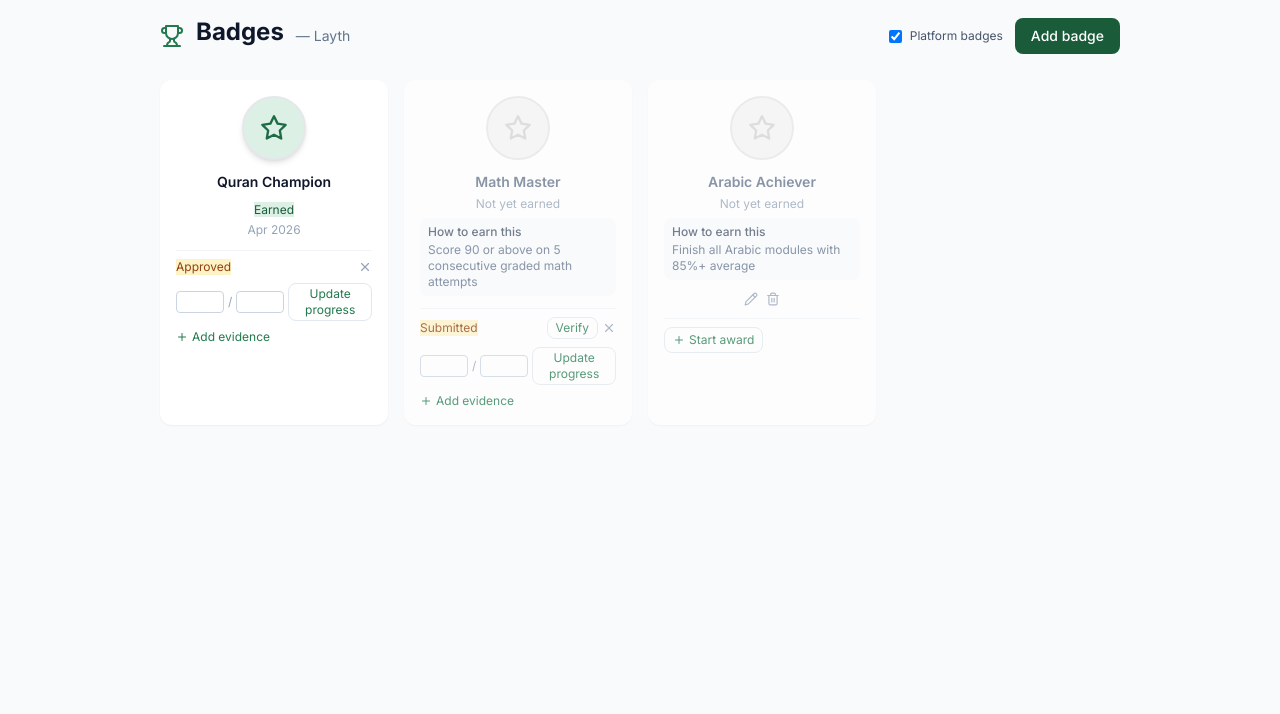
BadgesPage › authors a custom badge via the create form
Step 1. Click the button "Add badge" → [1067, 36], box [1015,18,1120,54]
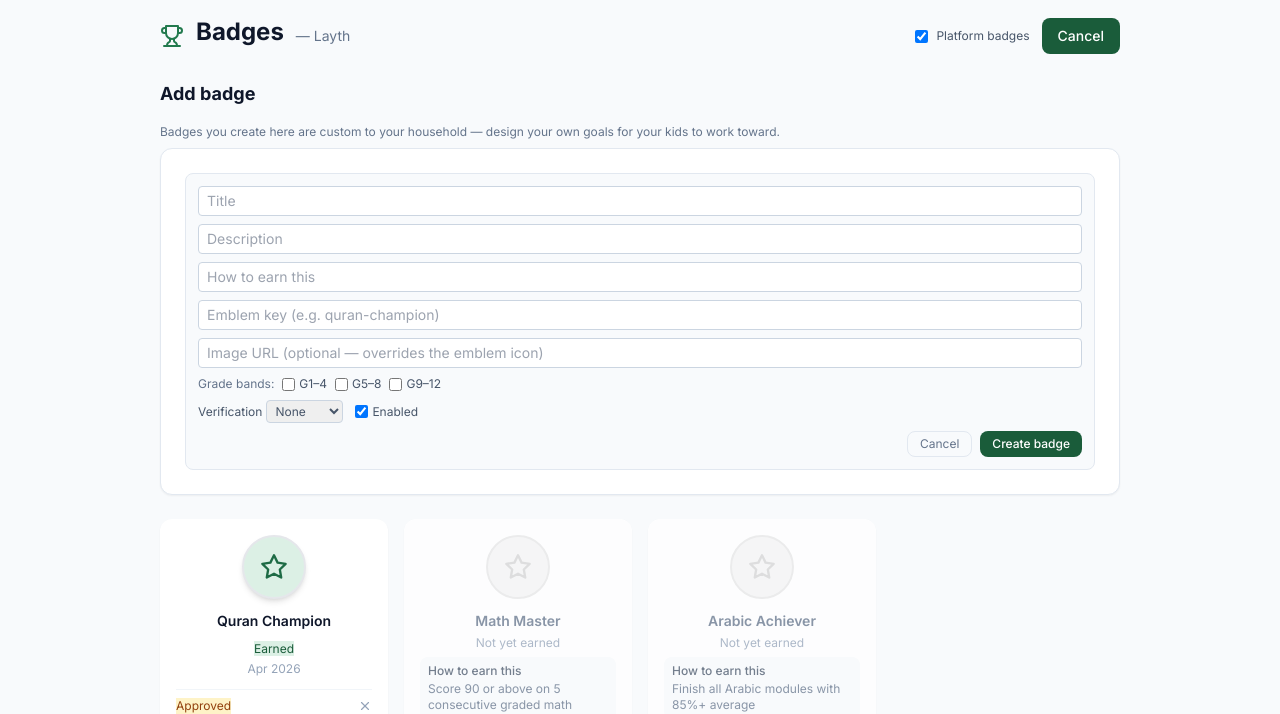
Expected: the element with test id "create-badge-form" is shown, [160,80,1120,495]
Step 2. Type "Tajweed Star" into the field named "Badge title" → [640, 201], box [198,186,1082,216]
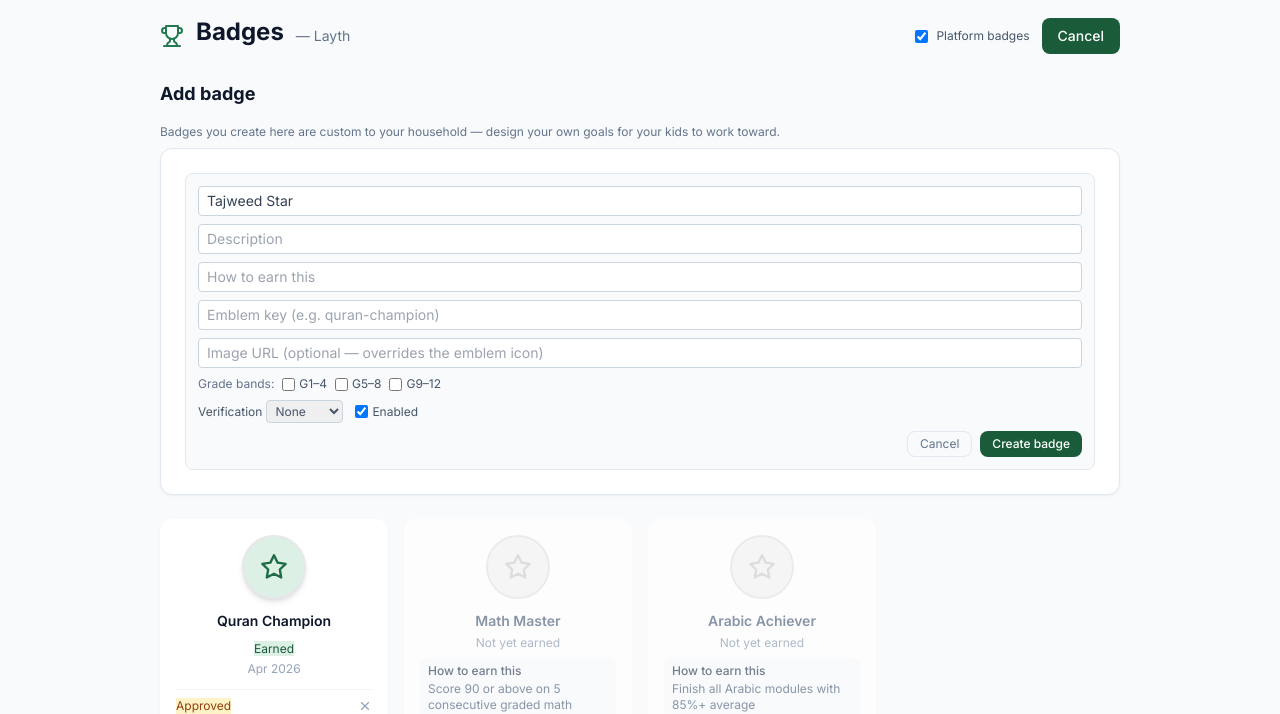
Step 3. Type "Master tajweed" into the field named "Badge description" → [640, 239], box [198,224,1082,254]
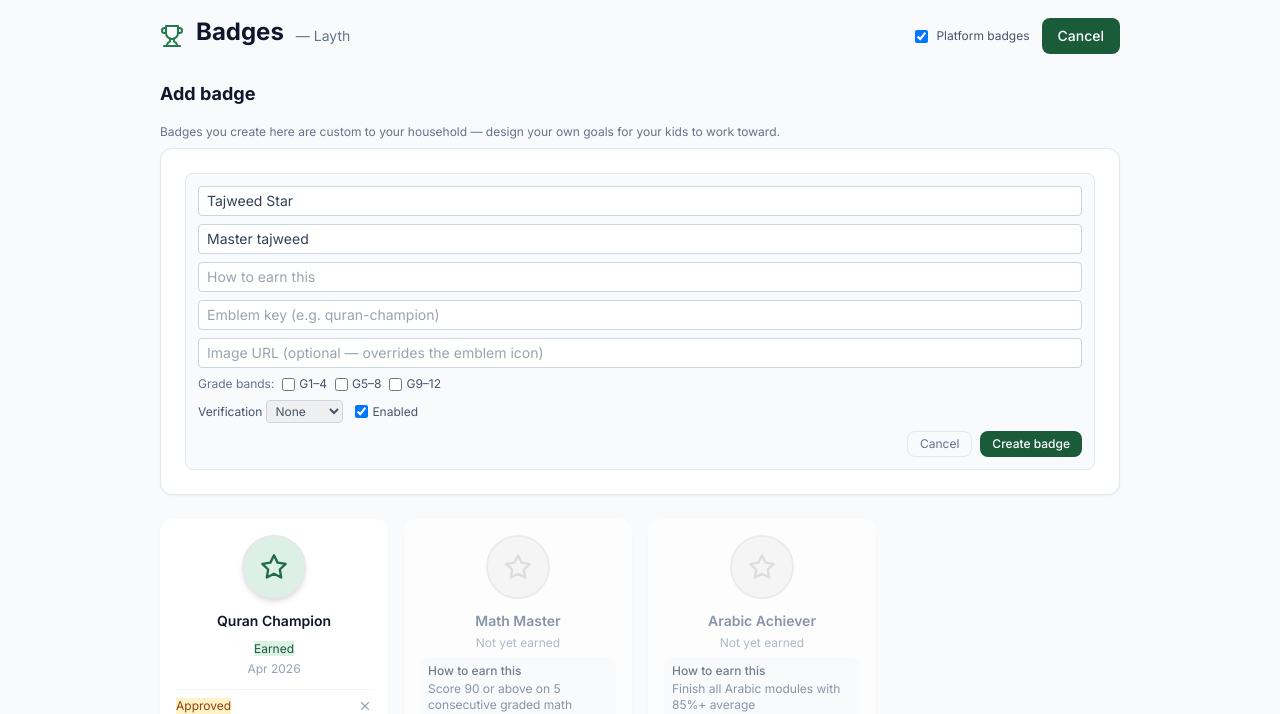
Step 4. Type "Recite with tajweed" into the field named "Badge criteria" → [640, 277], box [198,262,1082,292]
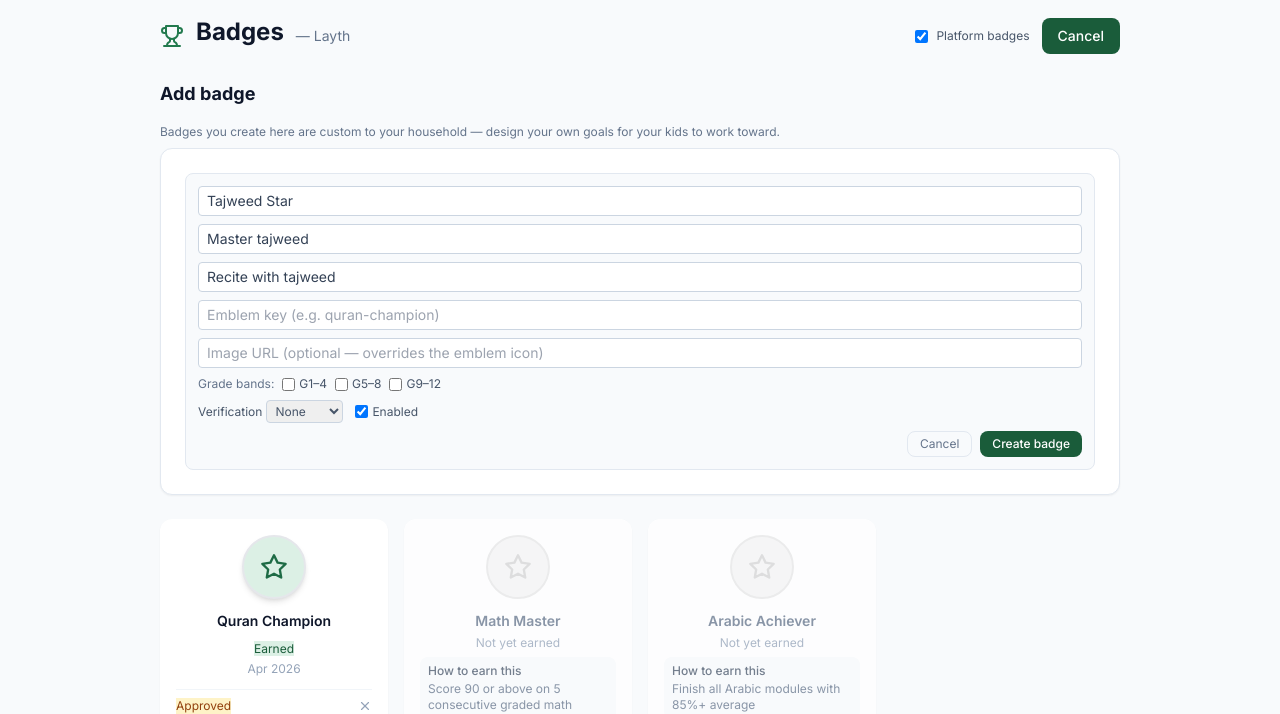
Step 5. Type "tajweed-star" into the field named "Badge emblem key" → [640, 315], box [198,300,1082,330]
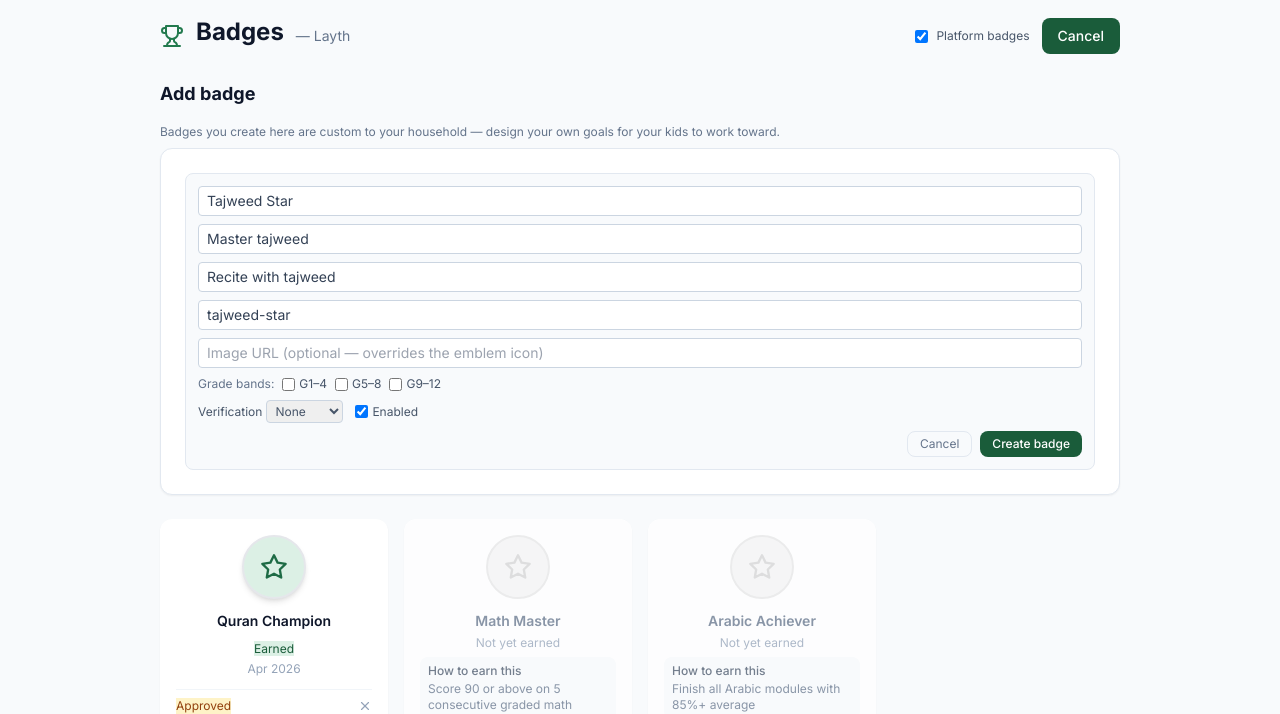
Step 6. Click the button "Create badge" → [1031, 444], box [980,431,1082,457]
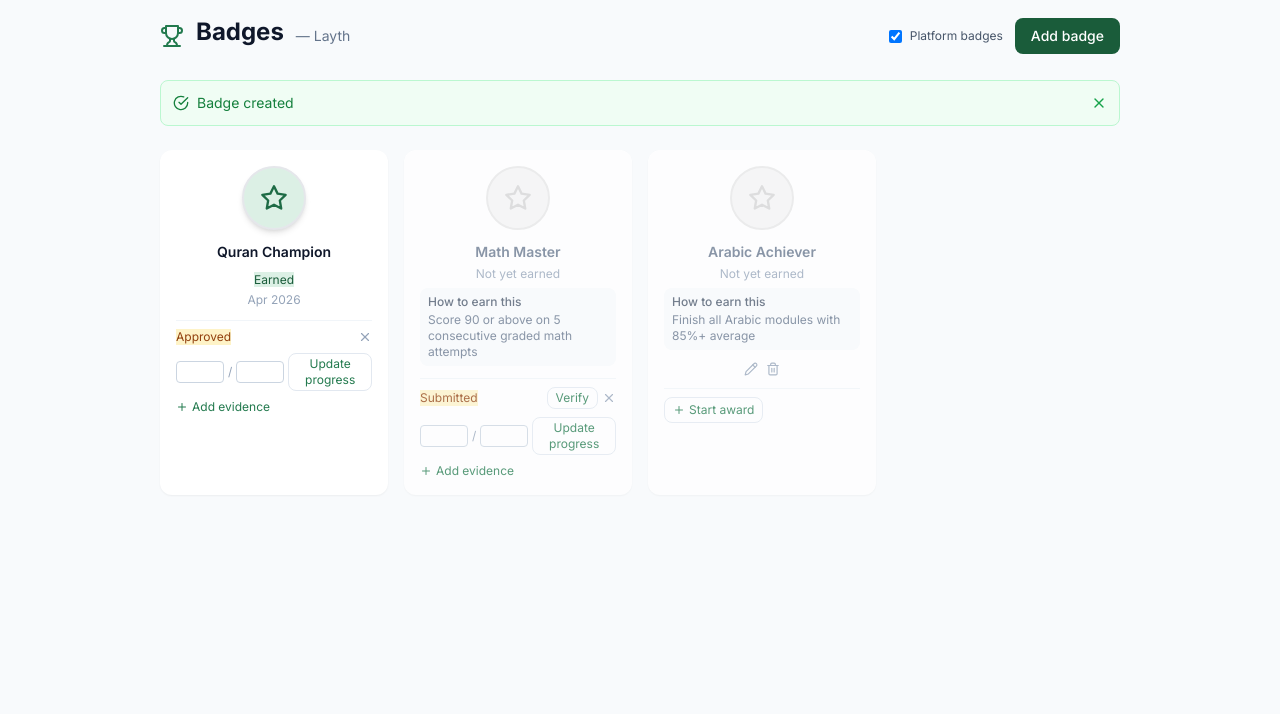
Expected: the text "Badge created" is shown, [197,93,294,113]
